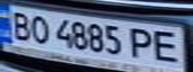4: (51, 16, 72, 48)
5: (103, 24, 127, 57)
8: (84, 21, 106, 54), (69, 19, 87, 52)
B: (3, 9, 36, 42)
E: (148, 28, 190, 65)
O: (27, 14, 54, 45)
P: (127, 25, 160, 61)
